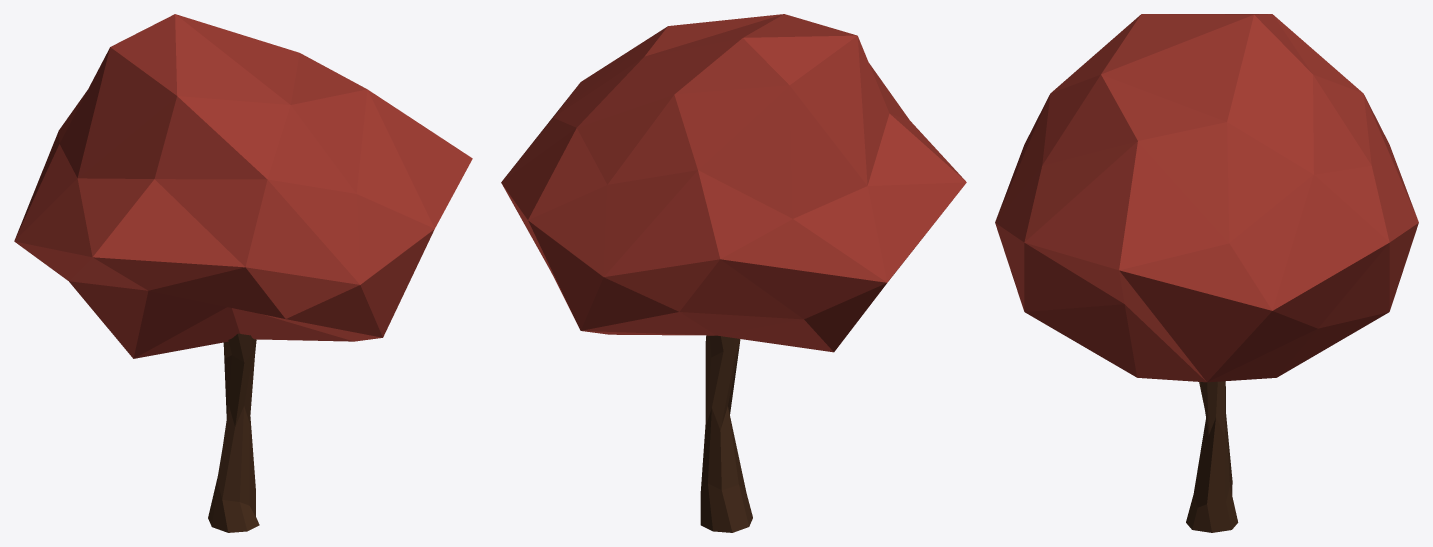
File: Tree_47_Red.fbx
3 views of the same model, side by side, from view 1: azimuth 30°, elevation 25°; view 2: azimuth 150°, elevation 25°; view 3: azimuth 270°, elevation 25° (orthographic). The views are drawn at different scales.
Parts seen in each view (by area): view 1: Tree_47_Red_Part_1, Tree_47_Red_Part_2; view 2: Tree_47_Red_Part_1, Tree_47_Red_Part_2; view 3: Tree_47_Red_Part_1, Tree_47_Red_Part_2.
Boxes of the visible parts, box(x1,y1,x2,y2) form: Tree_47_Red_Part_1: box(14, 14, 472, 358); Tree_47_Red_Part_2: box(208, 333, 259, 532); Tree_47_Red_Part_1: box(501, 14, 966, 352); Tree_47_Red_Part_2: box(700, 335, 752, 532); Tree_47_Red_Part_1: box(995, 14, 1418, 382); Tree_47_Red_Part_2: box(1186, 381, 1238, 532).
Size of the model in its own units: 630 by 794 by 622.
